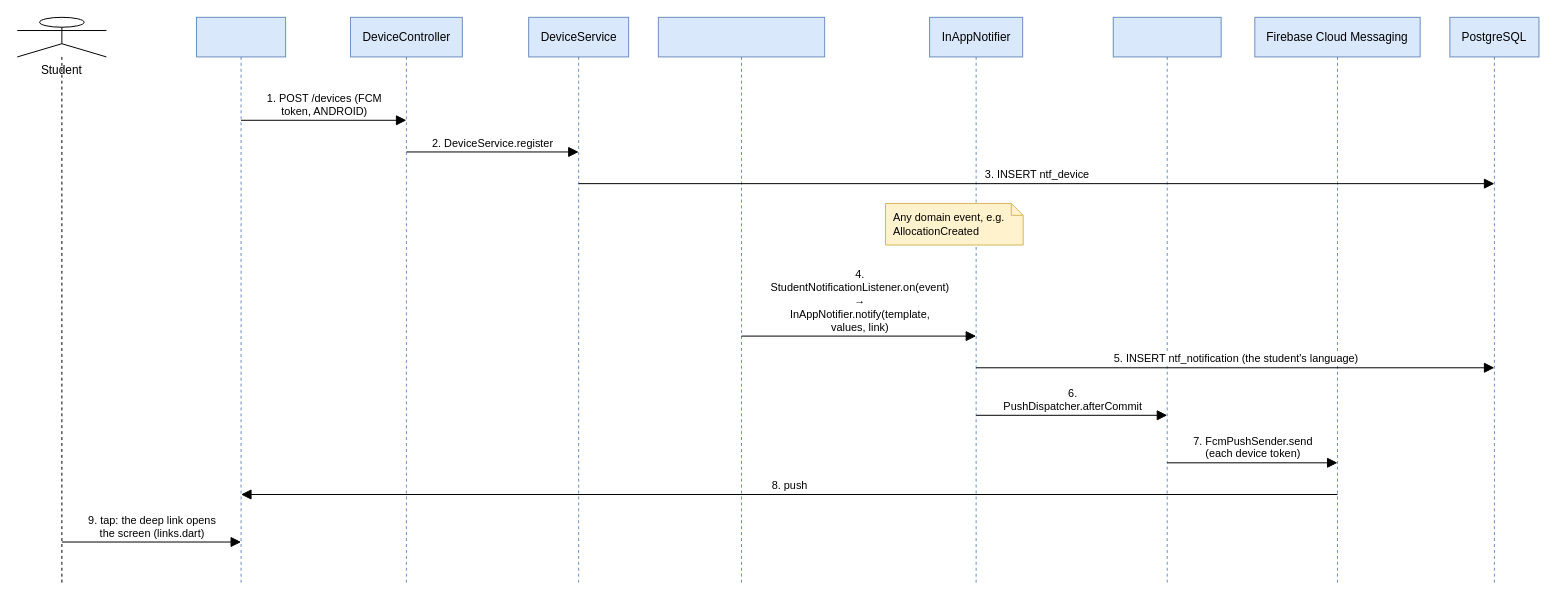
Image size: 1556x603. Some labels were removed from this diagram. Here are the shapes that lost their labels. From the top down, the box of each, then its label:
(196, 16, 286, 586): Mobile app
(657, 16, 825, 586): StudentNotificationListener
(1112, 16, 1221, 586): PushDispatcher
